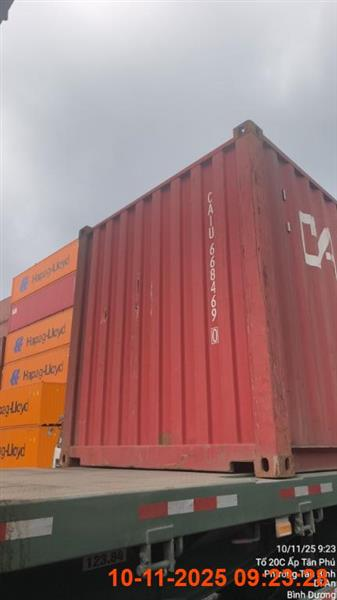hole: (1, 120, 335, 597)
